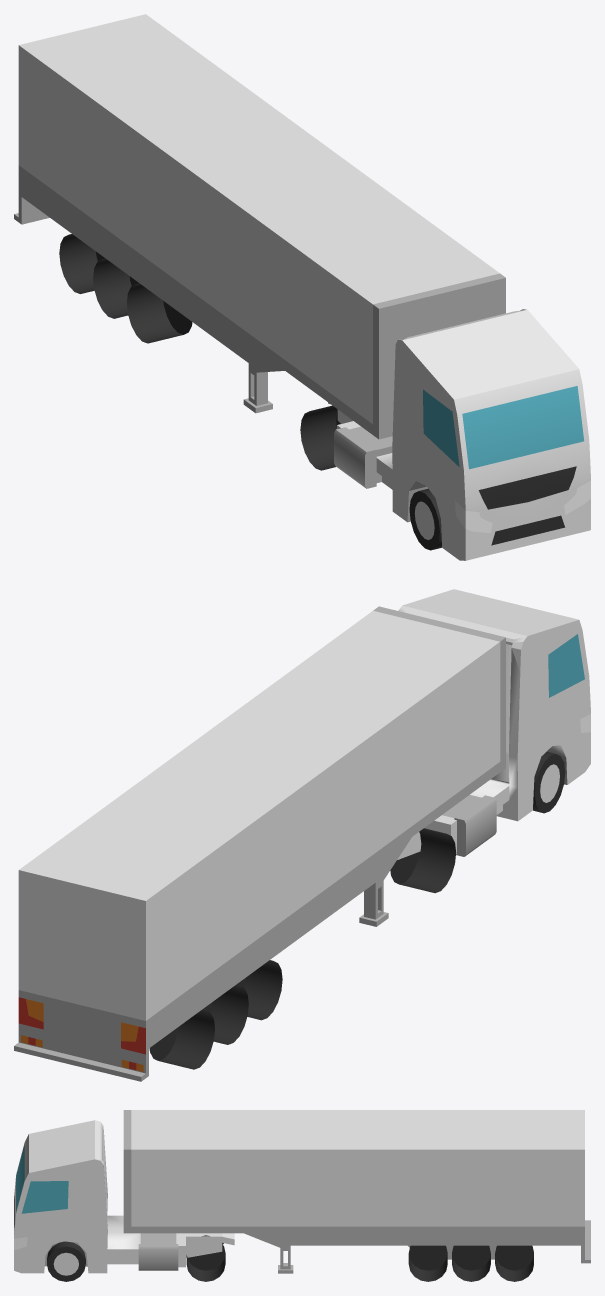
Rendered from Truck.fbx.
3 views of the same model, one above another, from view 1: azimuth 30°, elevation 25°; view 2: azimuth 150°, elevation 25°; view 3: azimuth 270°, elevation 25° (orthographic). The views are drawn at different scales.
Visible parts, largest first — view 1: Truck; view 2: Truck; view 3: Truck.
Part boxes in pixels (box(x1,y1,x2,y2)): Truck: box(14, 14, 590, 560); Truck: box(14, 589, 590, 1081); Truck: box(14, 1110, 590, 1281).
Bounding box in the file's own units: 0.1303 × 0.194 × 0.7659.
Materials: 1 (1 with a texture image).
